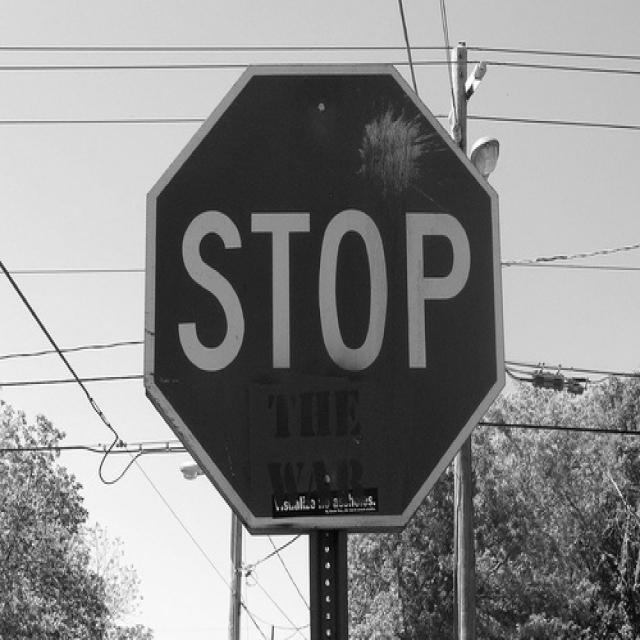pole: (443, 33, 485, 630)
